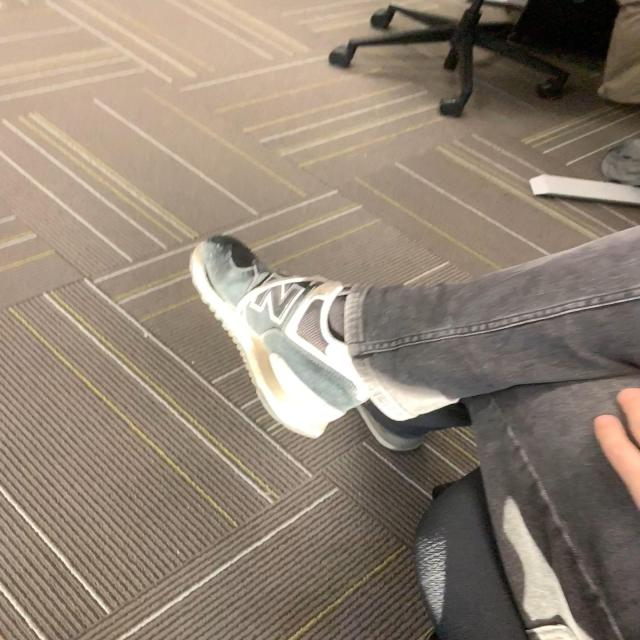shoe: (188, 237, 374, 441)
